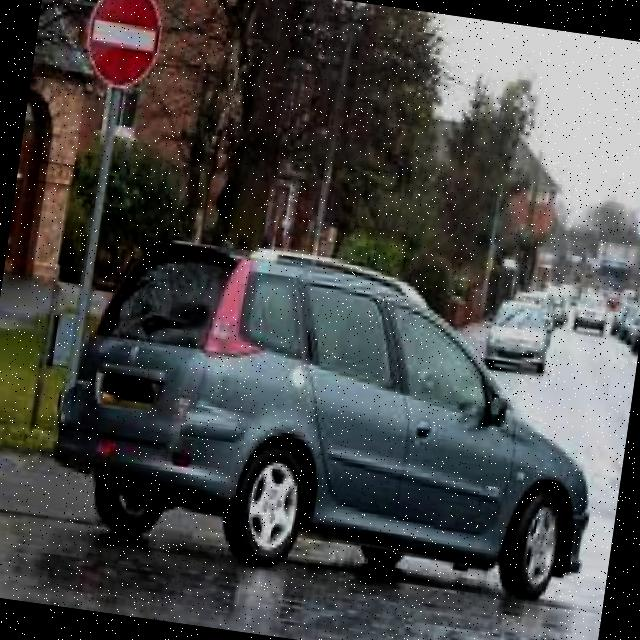Zakaz wjazdu: (78, 0, 170, 97)
